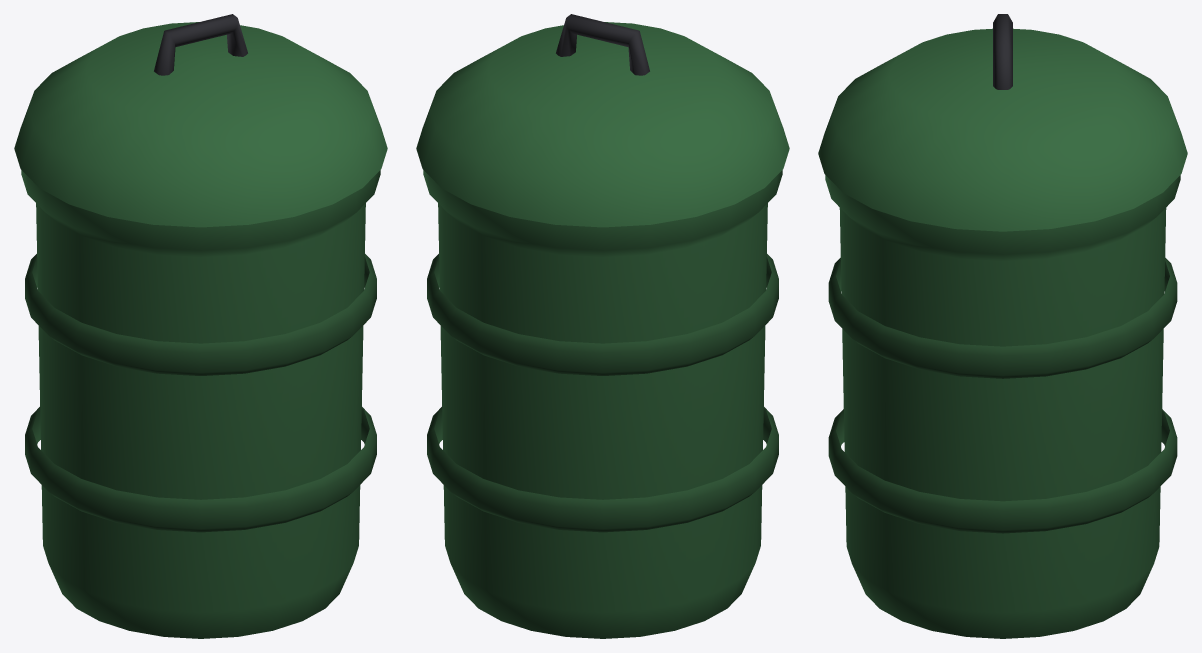
The model's file is trashcan.glb.
3 renders of one model, left to right at view 1: azimuth 30°, elevation 25°; view 2: azimuth 150°, elevation 25°; view 3: azimuth 270°, elevation 25°, orthographic.
Parts seen in each view (by area): view 1: trashcan_main; view 2: trashcan_main; view 3: trashcan_main.
Part boxes in pixels (x1,y1,x2,y2): trashcan_main: [14, 14, 387, 638]; trashcan_main: [416, 14, 789, 638]; trashcan_main: [818, 14, 1187, 638].
Bounding box in the file's own units: 0.52 × 0.851 × 0.52.
